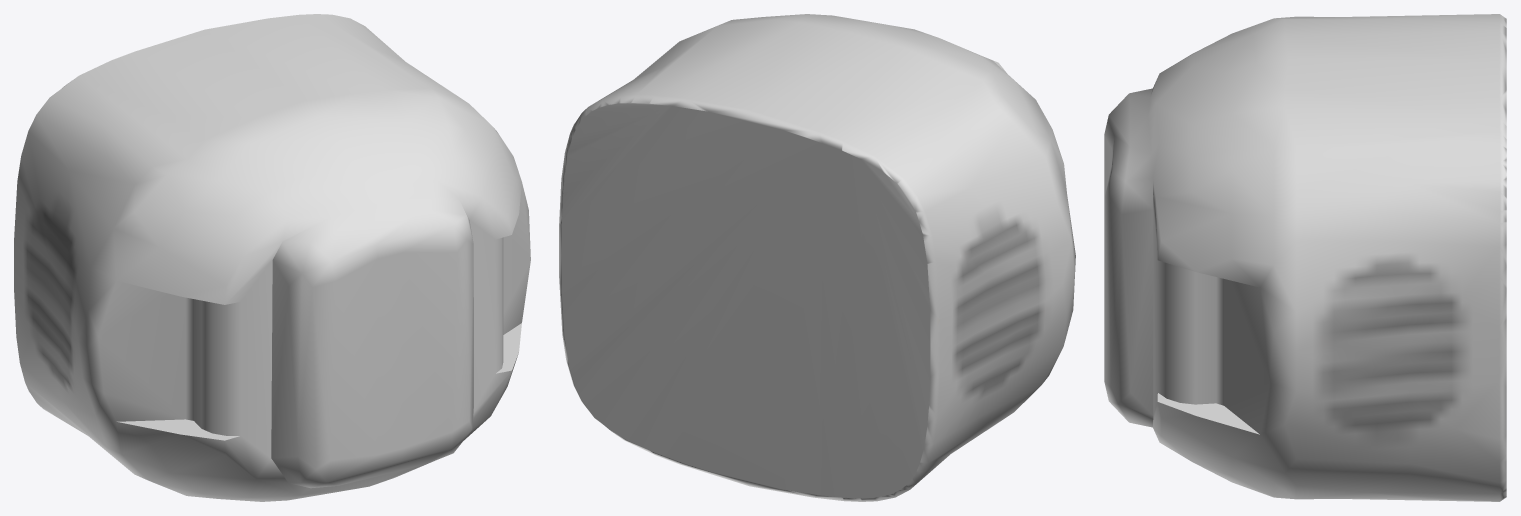
Rendered from link_gripper.glb.
The picture shows the model from 3 angles, left to right: view 1: azimuth 30°, elevation 25°; view 2: azimuth 150°, elevation 25°; view 3: azimuth 270°, elevation 25°; orthographic projection. The views are drawn at different scales.
Parts seen in each view (by area): view 1: link_gripper.3obj; view 2: link_gripper.3obj; view 3: link_gripper.3obj.
Boxes of the visible parts, bbox=[...] form: link_gripper.3obj: bbox=[14, 14, 530, 501]; link_gripper.3obj: bbox=[559, 14, 1075, 501]; link_gripper.3obj: bbox=[1104, 14, 1506, 501].
Bounding box in the file's own units: 0.0981 × 0.0811 × 0.0742.
Materials: 1 (1 with a texture image).
